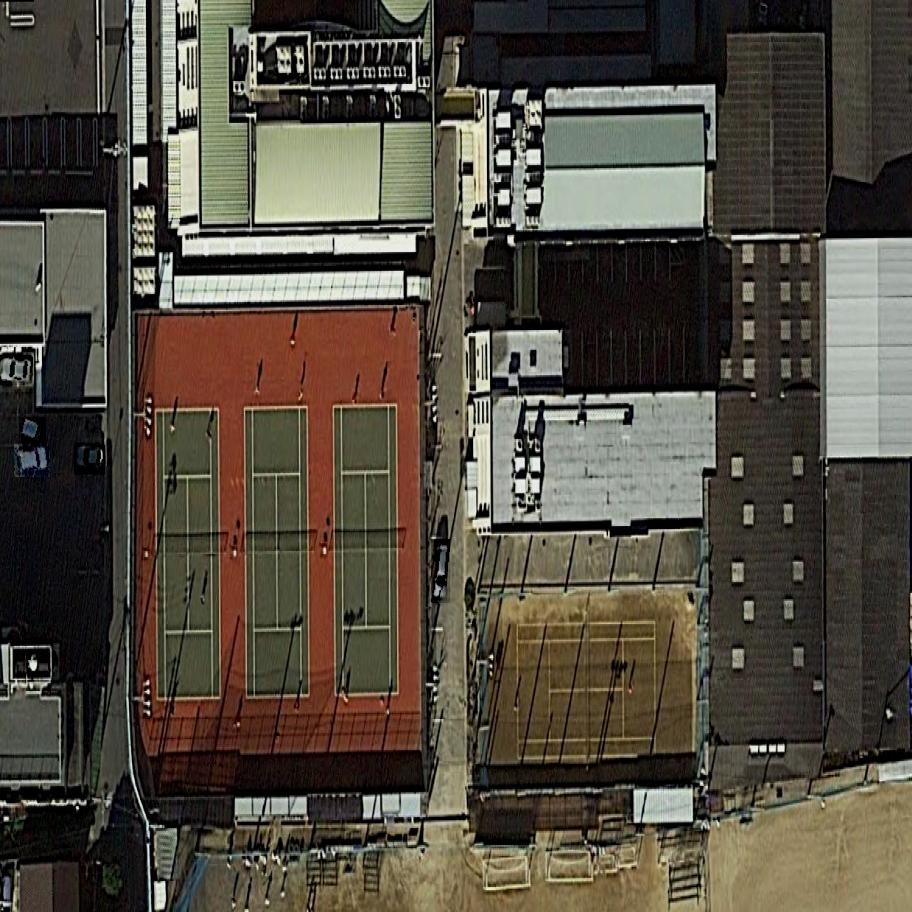small-vehicle: (13, 445, 52, 479), (431, 539, 450, 603), (0, 355, 33, 386), (74, 444, 105, 476), (20, 417, 47, 444)
